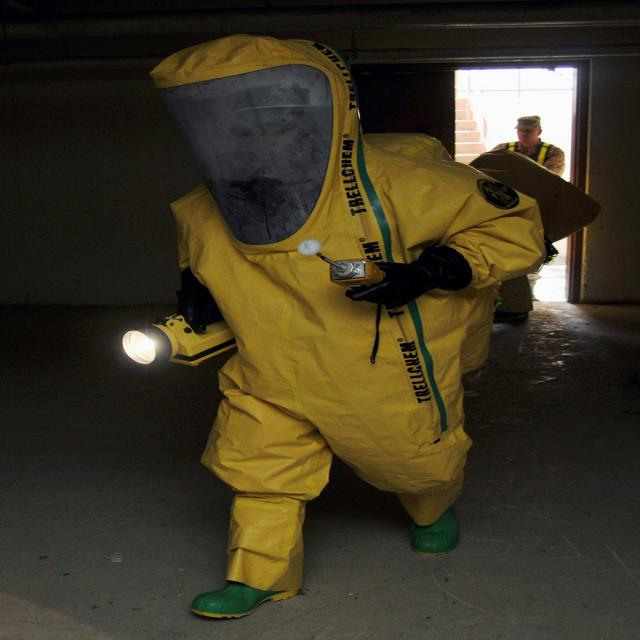no_fire: (68, 31, 557, 594)
